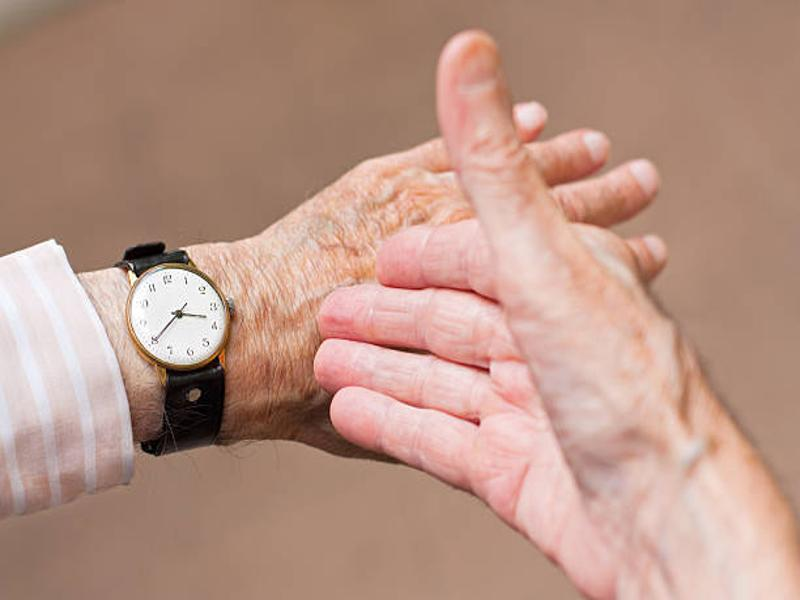watch: (108, 241, 237, 459)
